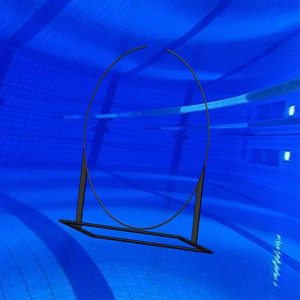circle: (59, 44, 215, 256)
